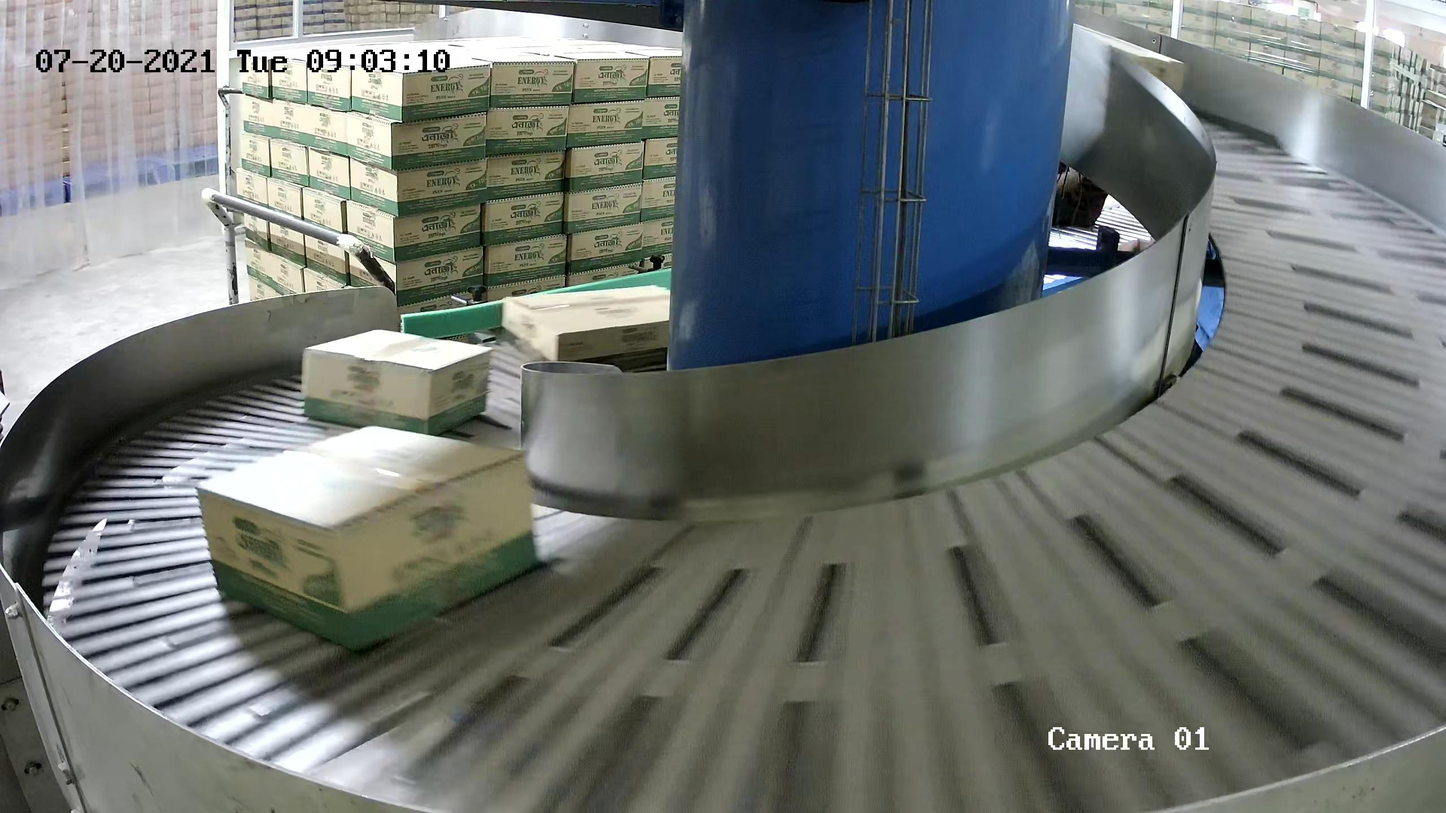Box: (194, 424, 538, 653), (301, 328, 494, 438), (500, 283, 671, 371)
